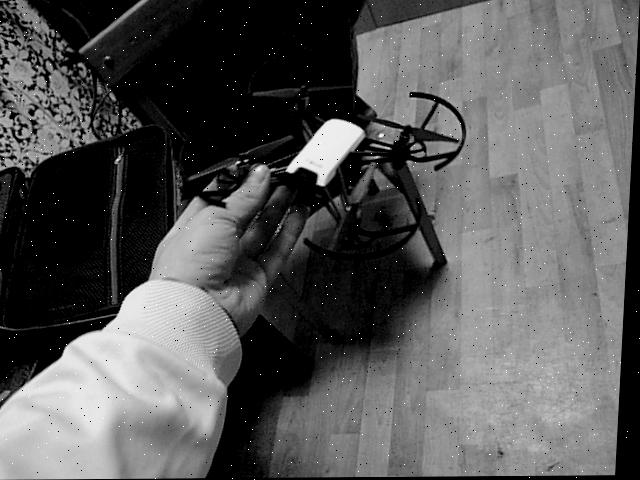drone: (175, 40, 480, 276)
